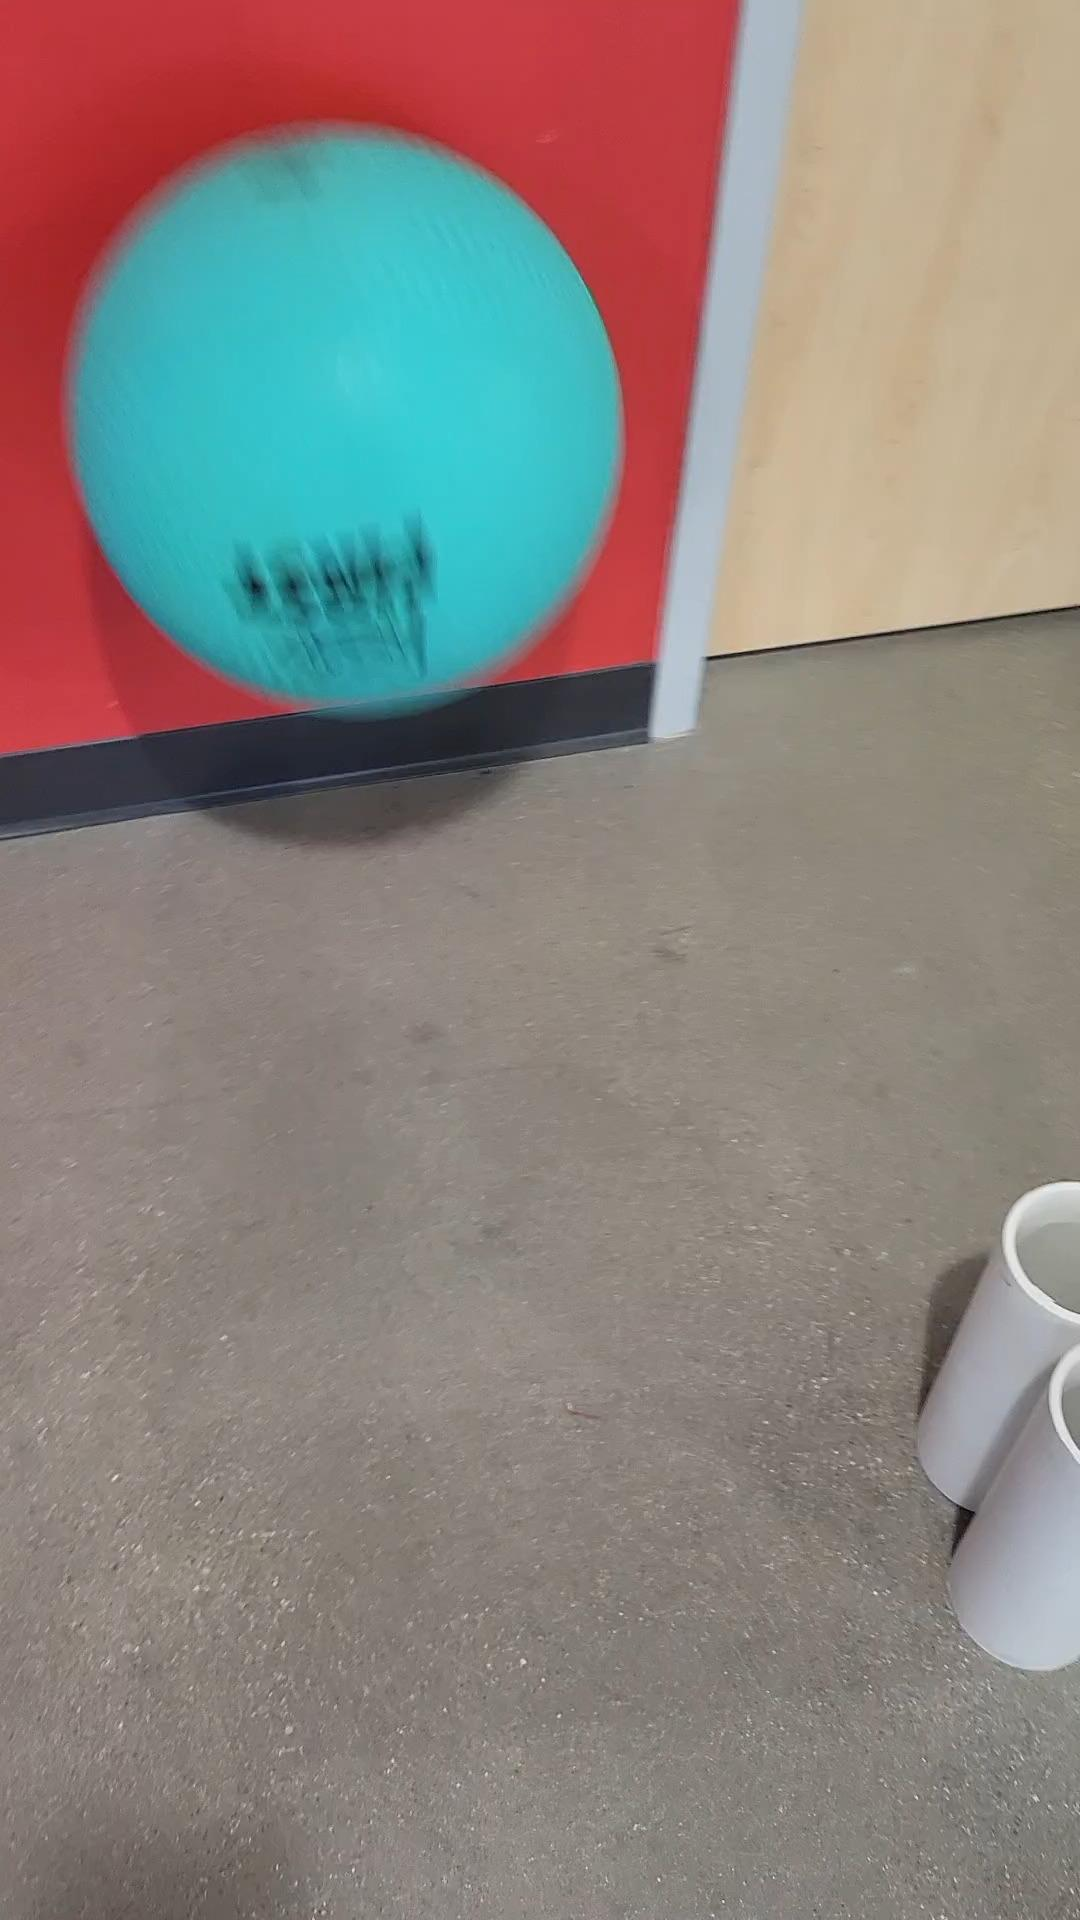algae: (76, 127, 626, 708)
coral: (934, 1176, 1080, 1536), (973, 1345, 1080, 1668)
